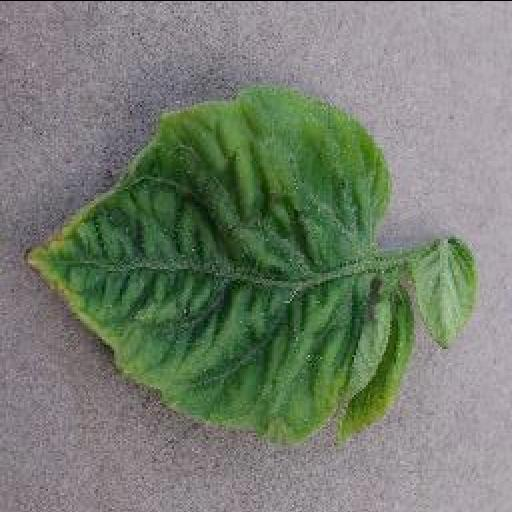disease_tomato: (24, 80, 410, 446)
